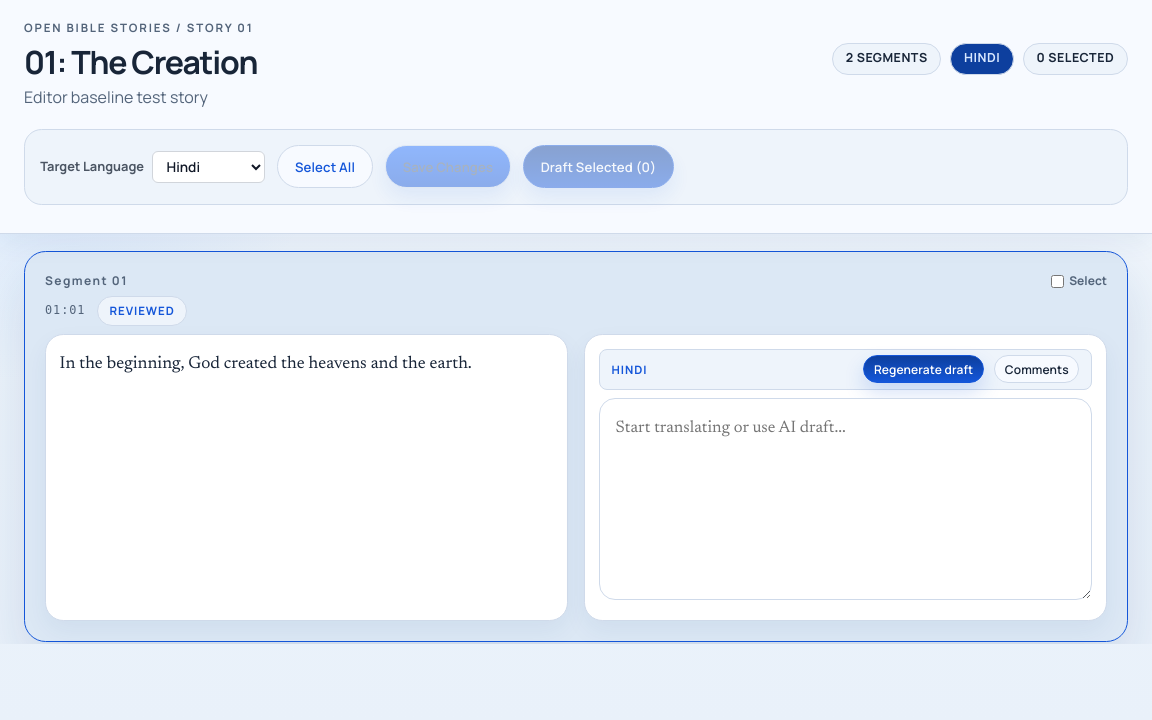
Test: StoryEditorBaseline › shows skeleton placeholder on selected segments while drafting
# Select the first segment
Click the checkbox named "select-segment-01:01".
click(1057, 281)  # box [1051,275,1064,288]
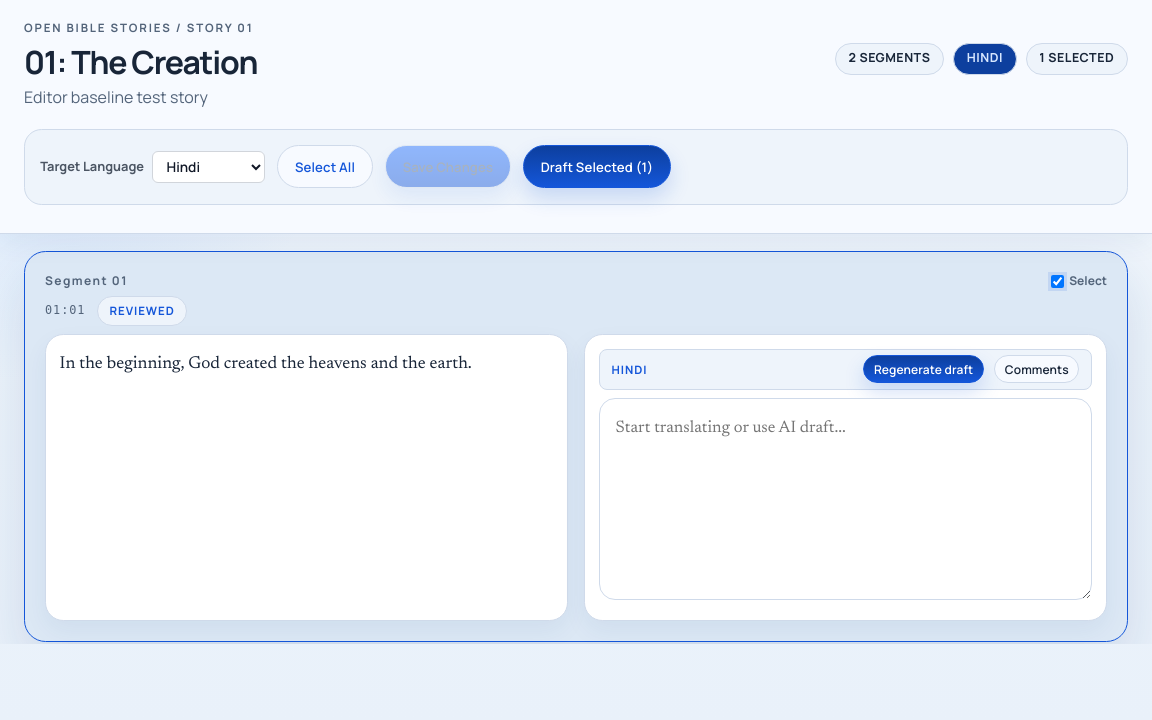
Expected: the button with test id "draft-selected-btn" reads "Draft Selected (1)", [523,145,671,188]
Expected: the button with test id "draft-selected-btn" is enabled, [523,145,671,188]
